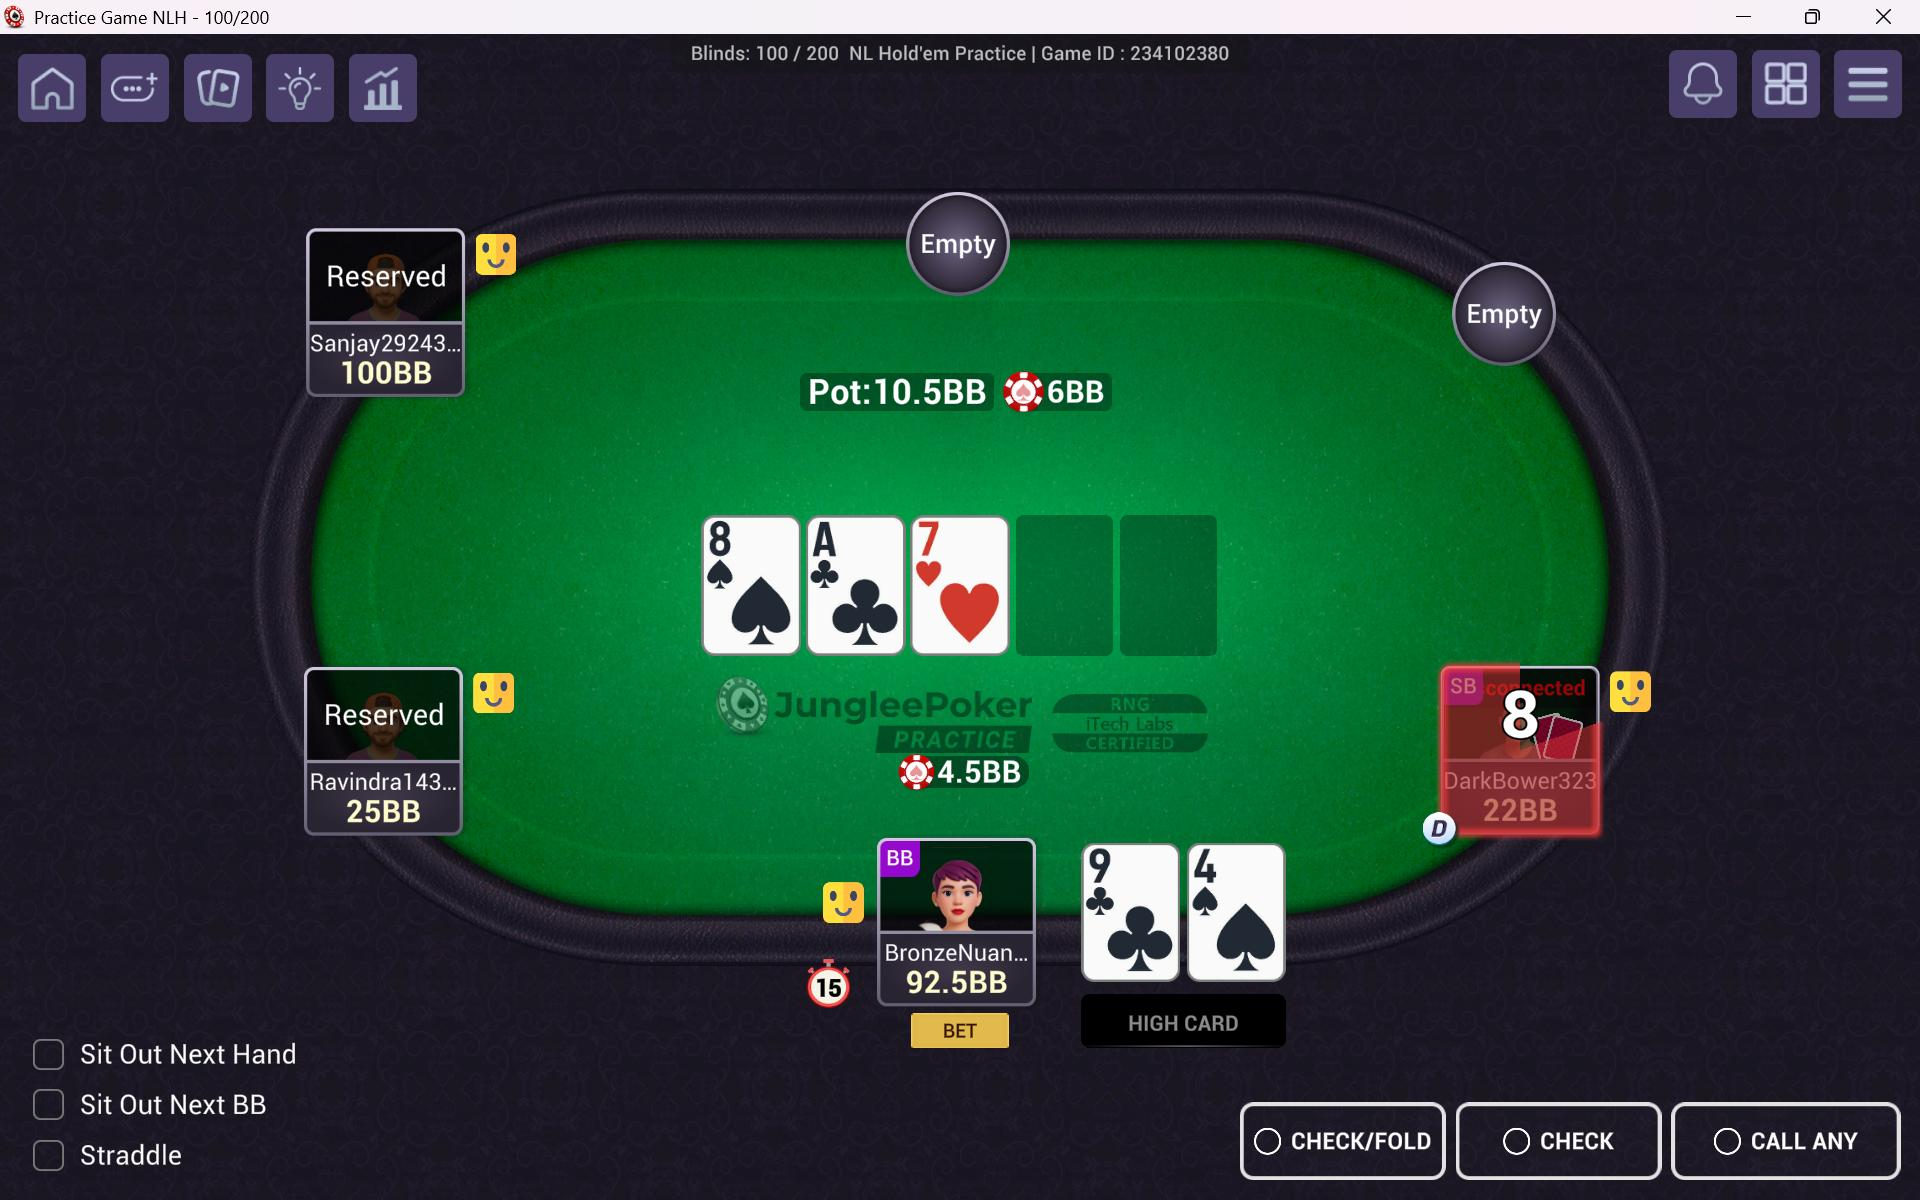card1_rank: (1082, 836, 1132, 889)
card1_suite_club: (1107, 889, 1178, 983)
card2_rank: (1190, 841, 1258, 889)
card2_suite_spades: (1212, 878, 1283, 984)
flop1_rank: (708, 521, 784, 563)
flop1_suite_spades: (730, 563, 800, 653)
flop2_rank: (829, 561, 898, 654), (813, 513, 878, 563)
flop3_rank: (915, 516, 970, 559)
flop3_suite_heart: (934, 553, 1004, 646)
my_bet: (887, 741, 1039, 794)
my_stack: (885, 954, 1028, 1004)
position_BB: (875, 838, 926, 888)
position_SB: (1444, 664, 1496, 716)
total_pot: (795, 366, 1120, 415)
villian1_name: (307, 763, 455, 798)
villian1_stack: (315, 788, 455, 835)
villian2_name: (305, 324, 459, 364)
villian2_stack: (307, 366, 464, 388)
villian5_name: (1443, 753, 1597, 794)
villian5_stack: (1444, 798, 1598, 835)
